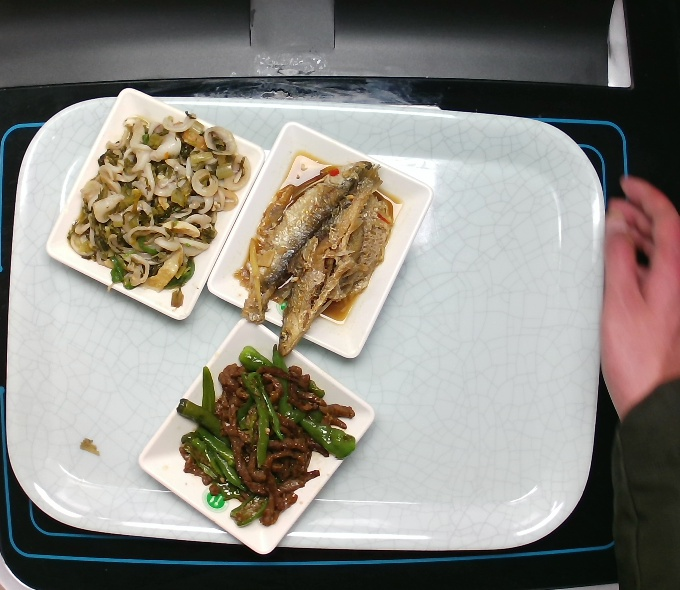wcq-QingJiaoNiuRou: (157, 354, 362, 523)
wcq-XiaoXiYu: (242, 154, 396, 347)
wcq-XueCaiYouYu: (64, 109, 248, 297)
